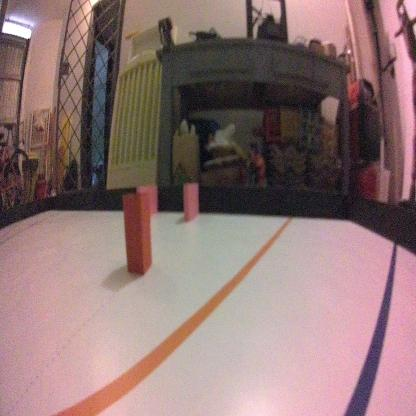magenta: (182, 180, 198, 226)
red: (122, 188, 152, 274)
